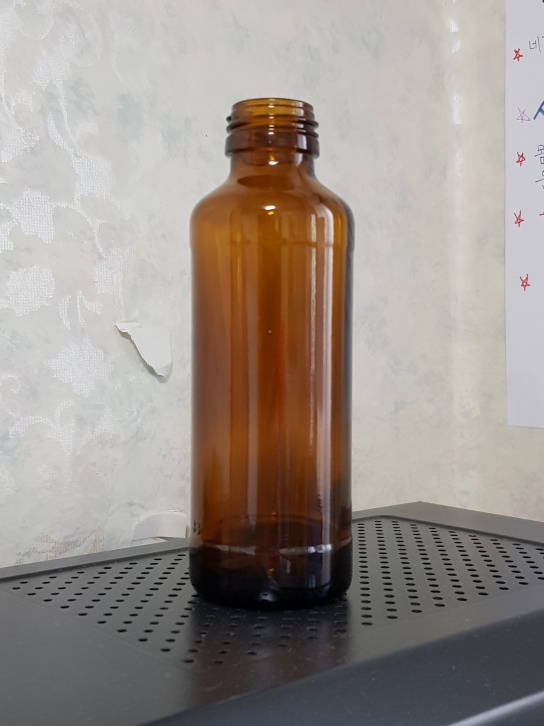Glass: (185, 96, 358, 614)
